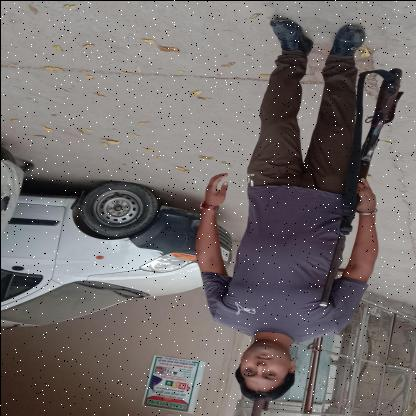rifle: (311, 60, 413, 310)
